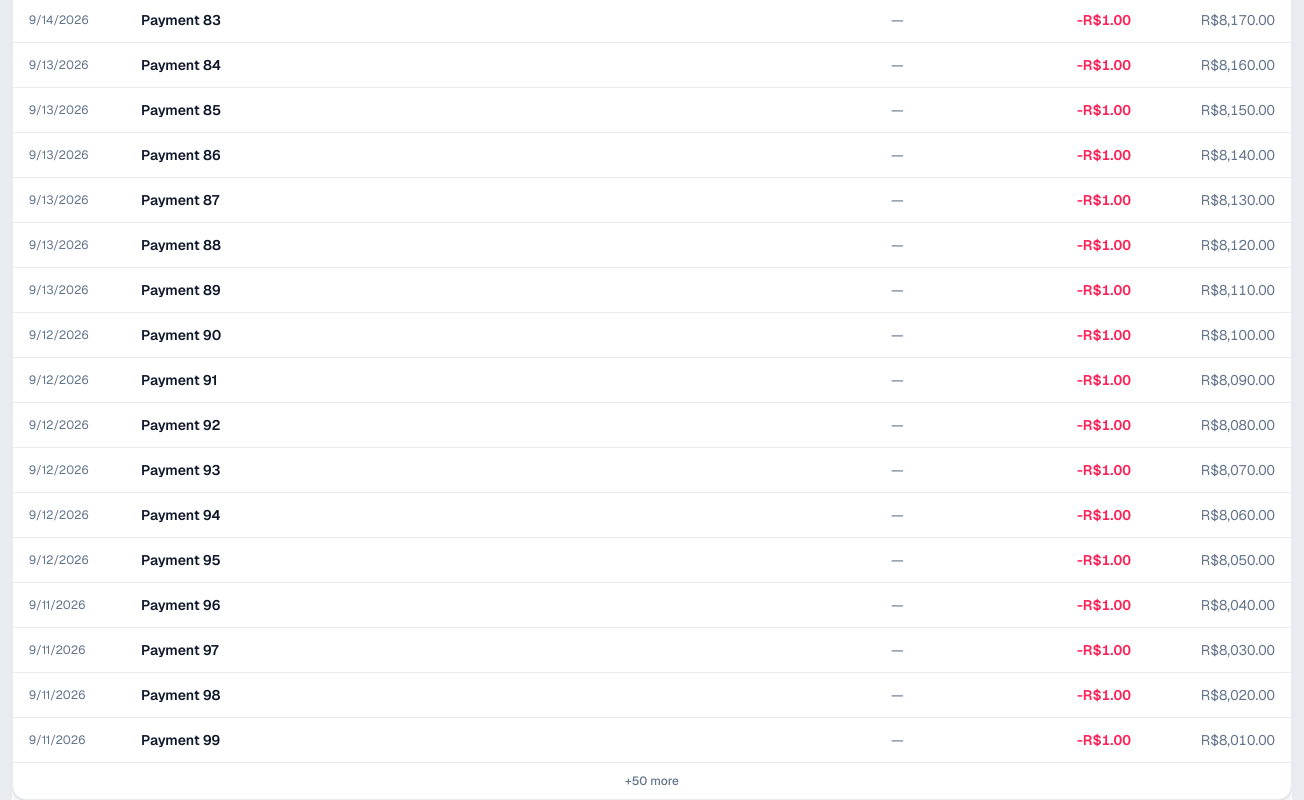
Test: a non-credit-card account with more rows than one page › appends the next page when asked to show more
This screenshot has width=1304, height=800.
(page scrolled)
Click the button "+50 more" at (652, 780), box [13,762,1291,799]
(page scrolled)
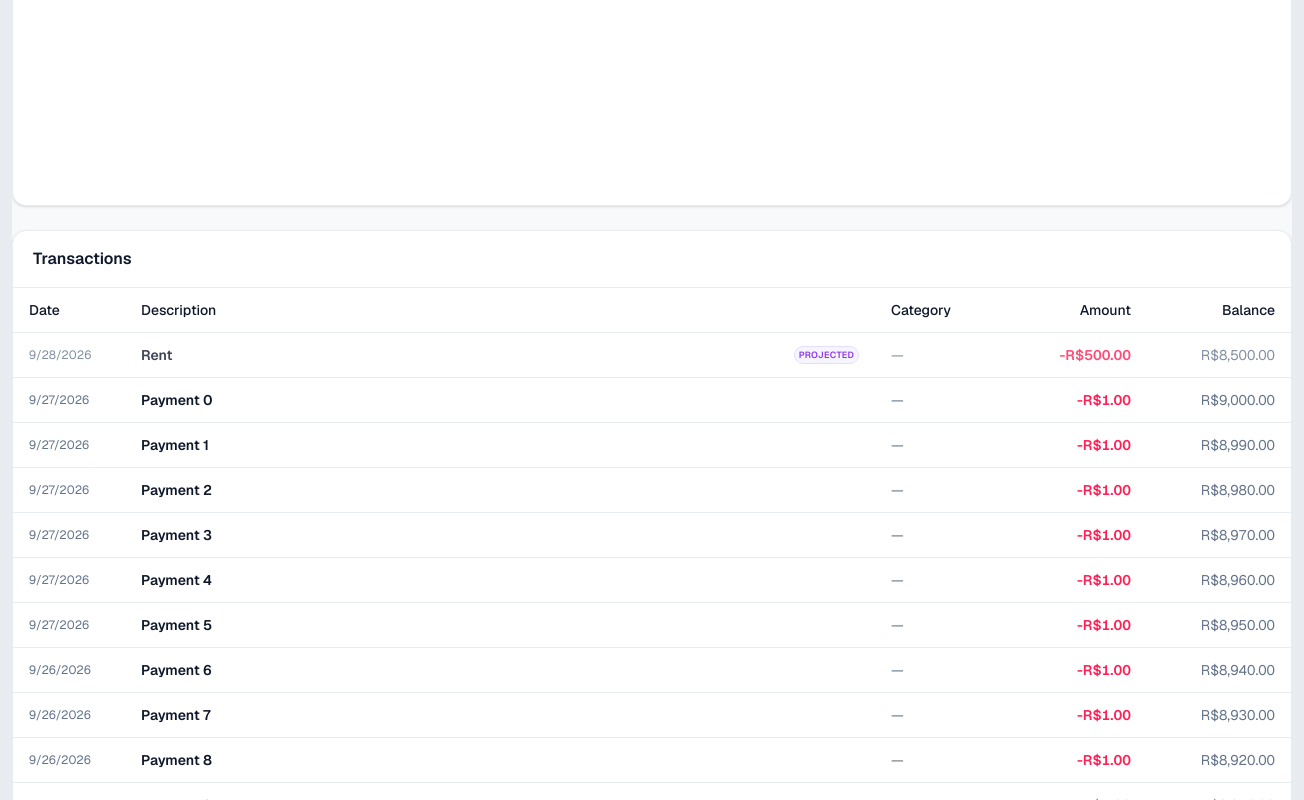
Expected: the cell "R$9,000.00" is shown, [1147,378,1291,422]
Expected: the button "more" is gone
